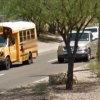buses: (0, 20, 37, 70)
